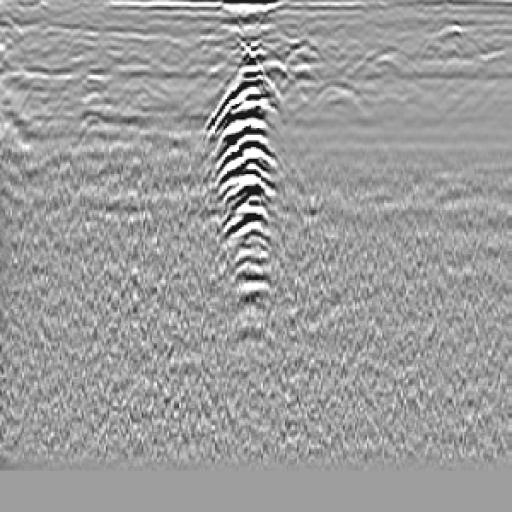metalic: (191, 26, 306, 358)
nonmetalic: (288, 68, 393, 144)
